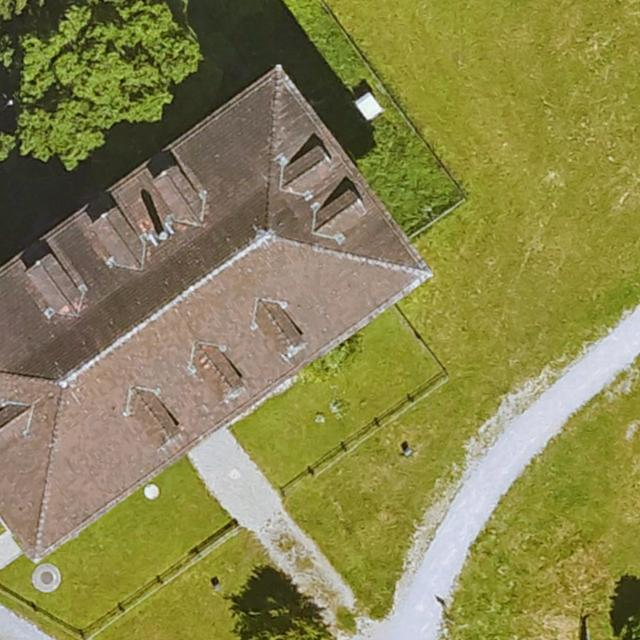tree: (0, 0, 197, 161)
